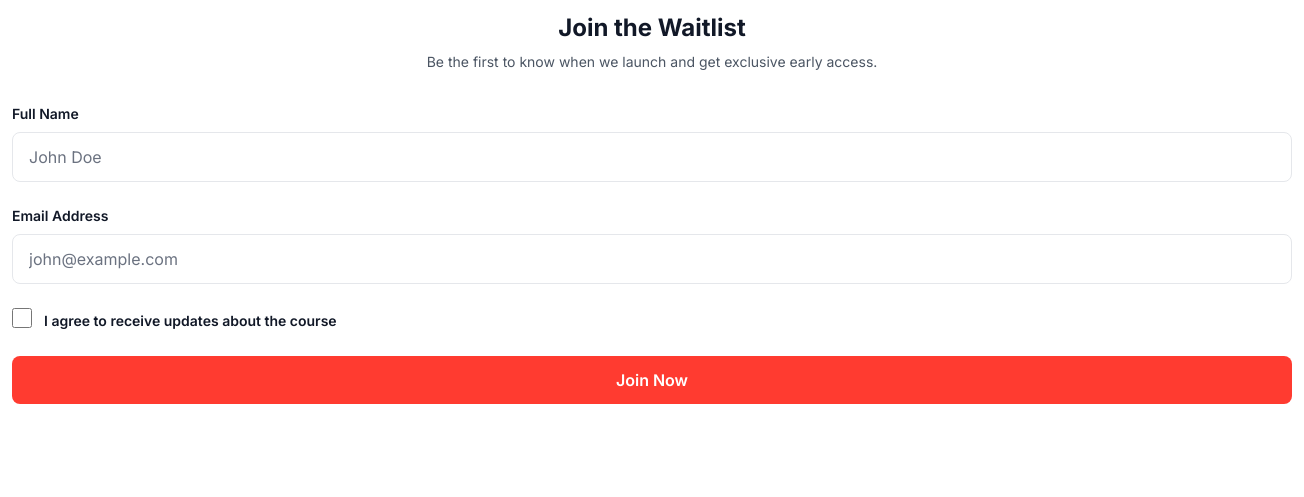
Test case: WaitlistForm › handles rate limit error
# Fill form with rate limited email
Type "Rate Limited" into the field labelled "Full Name". click: (652, 157)
box: [12,132,1292,182]
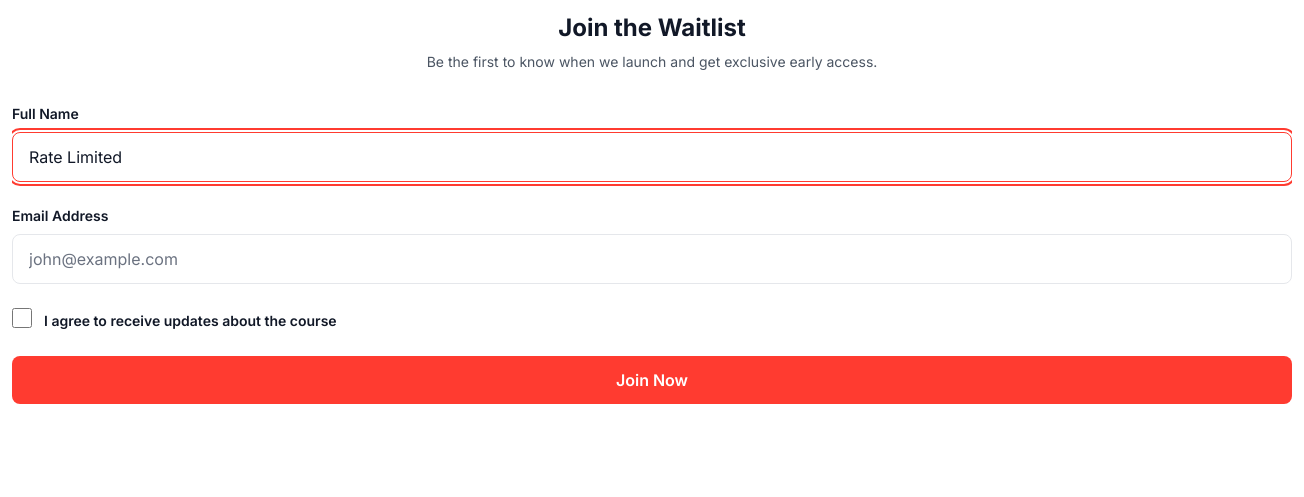
Type "ratelimited@example.com" into the field labelled "Email Address". click: (652, 259)
box: [12,234,1292,284]
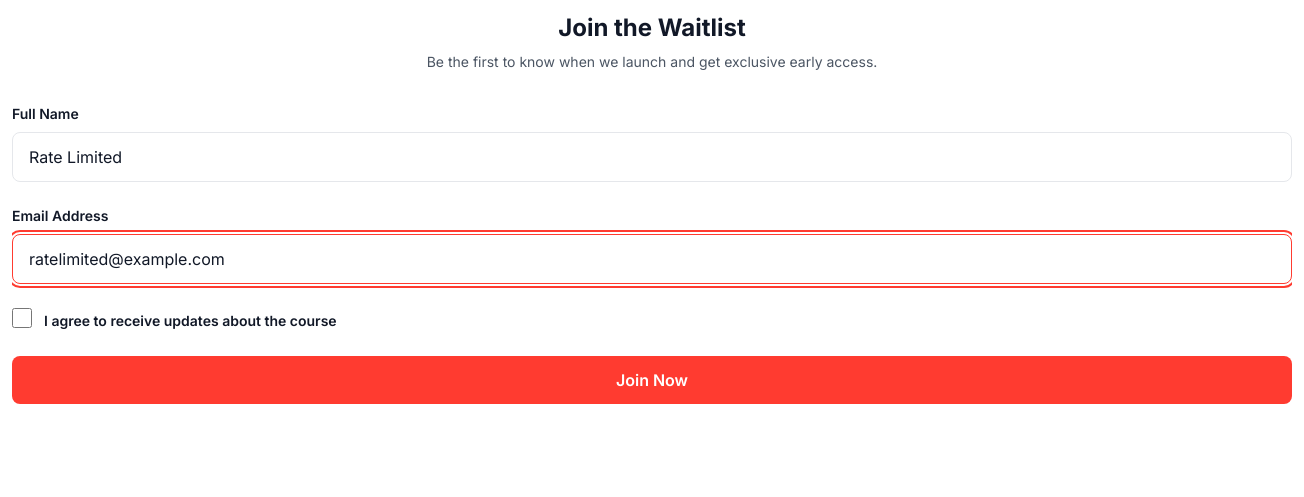
# Submit form
Click the button "Join Now". click: click(652, 380)
box: [12,356,1292,404]
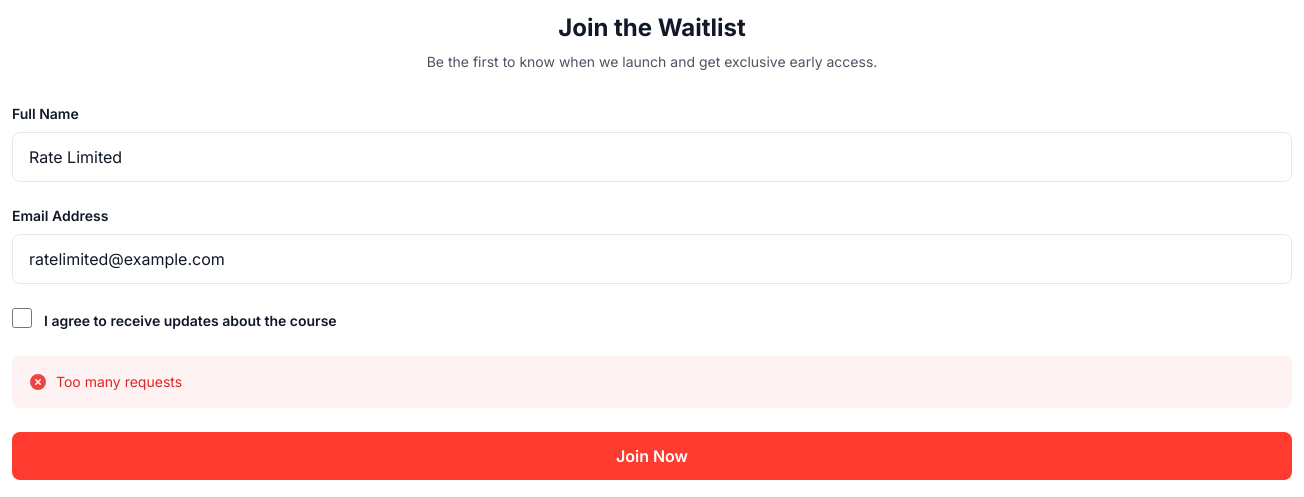
Expected: the text "Too many requests" is shown, [56,372,182,392]
